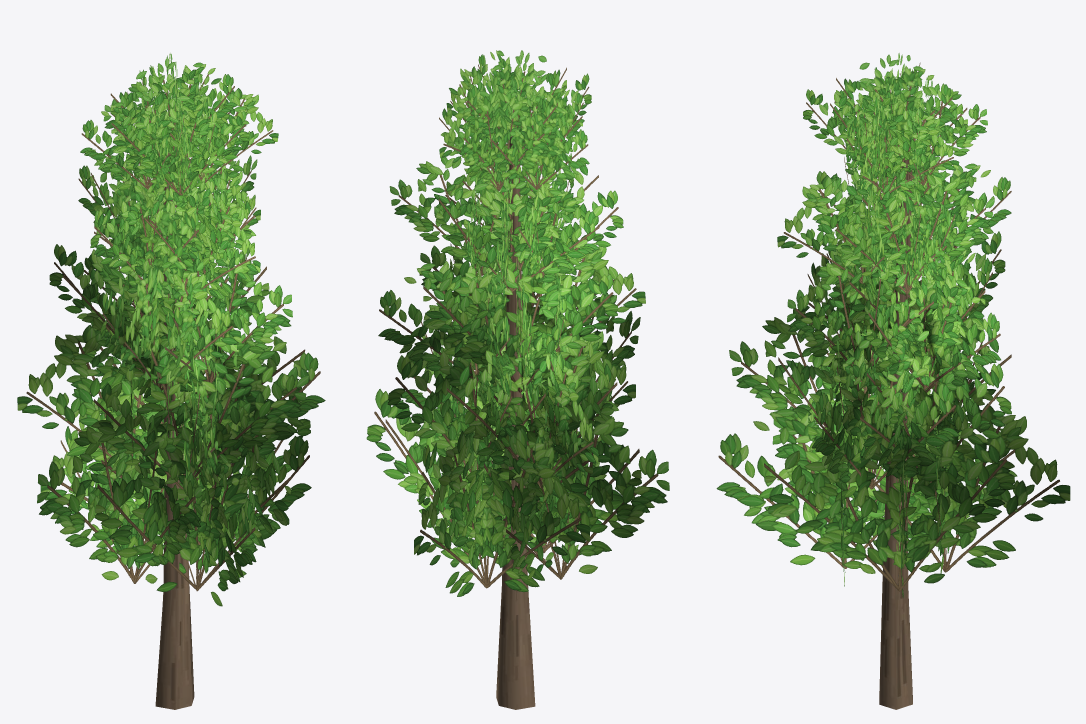
File: leafcard_column_tree.glb
3 views of the same model, side by side, from view 1: azimuth 30°, elevation 25°; view 2: azimuth 150°, elevation 25°; view 3: azimuth 270°, elevation 25° (orthographic).
Visible parts, largest first — view 1: leafcard_column_tree; view 2: leafcard_column_tree; view 3: leafcard_column_tree.
Part boxes in pixels (<box>): leafcard_column_tree: <box>17,53,325,709</box>; leafcard_column_tree: <box>366,50,669,709</box>; leafcard_column_tree: <box>716,53,1070,709</box>.
Size of the model in its own units: 3.2 by 6.75 by 3.41.
Materials: 2 (2 with a texture image).
